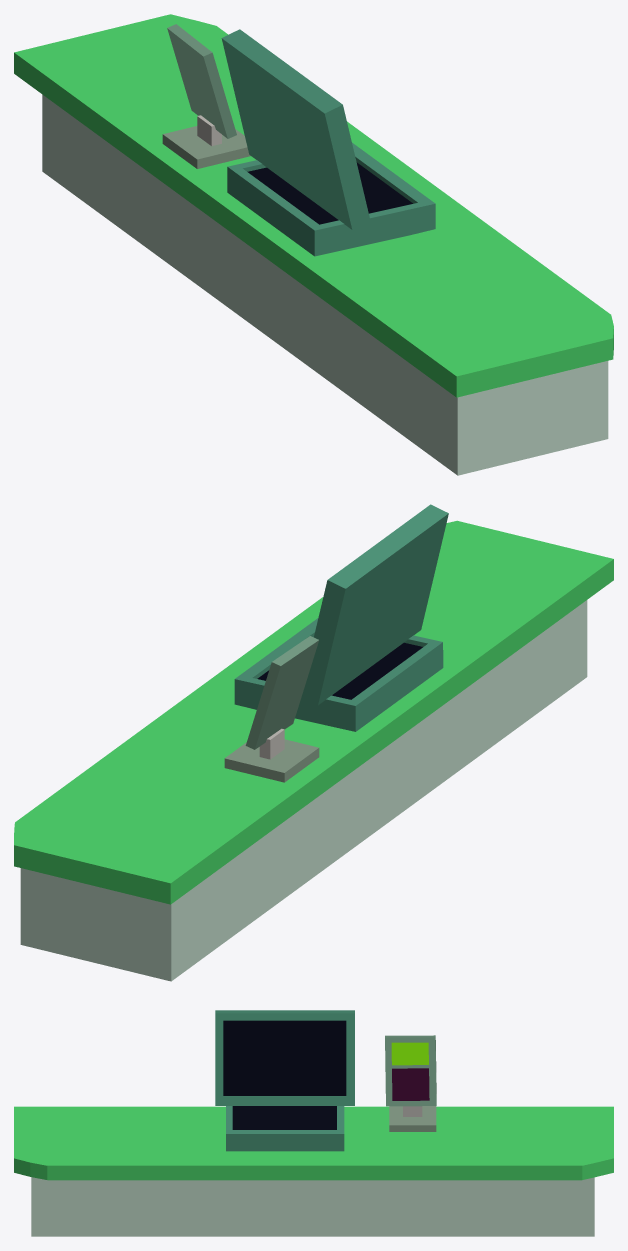
File: Cash.fbx
3 views of the same model, one above another, from view 1: azimuth 30°, elevation 25°; view 2: azimuth 150°, elevation 25°; view 3: azimuth 270°, elevation 25° (orthographic). The views are drawn at different scales.
Parts seen in each view (by area): view 1: Куб.001; view 2: Куб.001; view 3: Куб.001.
Boxes of the visible parts, box(x1,y1,x2,y2) form: Куб.001: box(14, 14, 613, 475); Куб.001: box(14, 504, 613, 981); Куб.001: box(14, 1010, 613, 1236).
Size of the model in its own units: 64.34 by 91.5 by 275.
